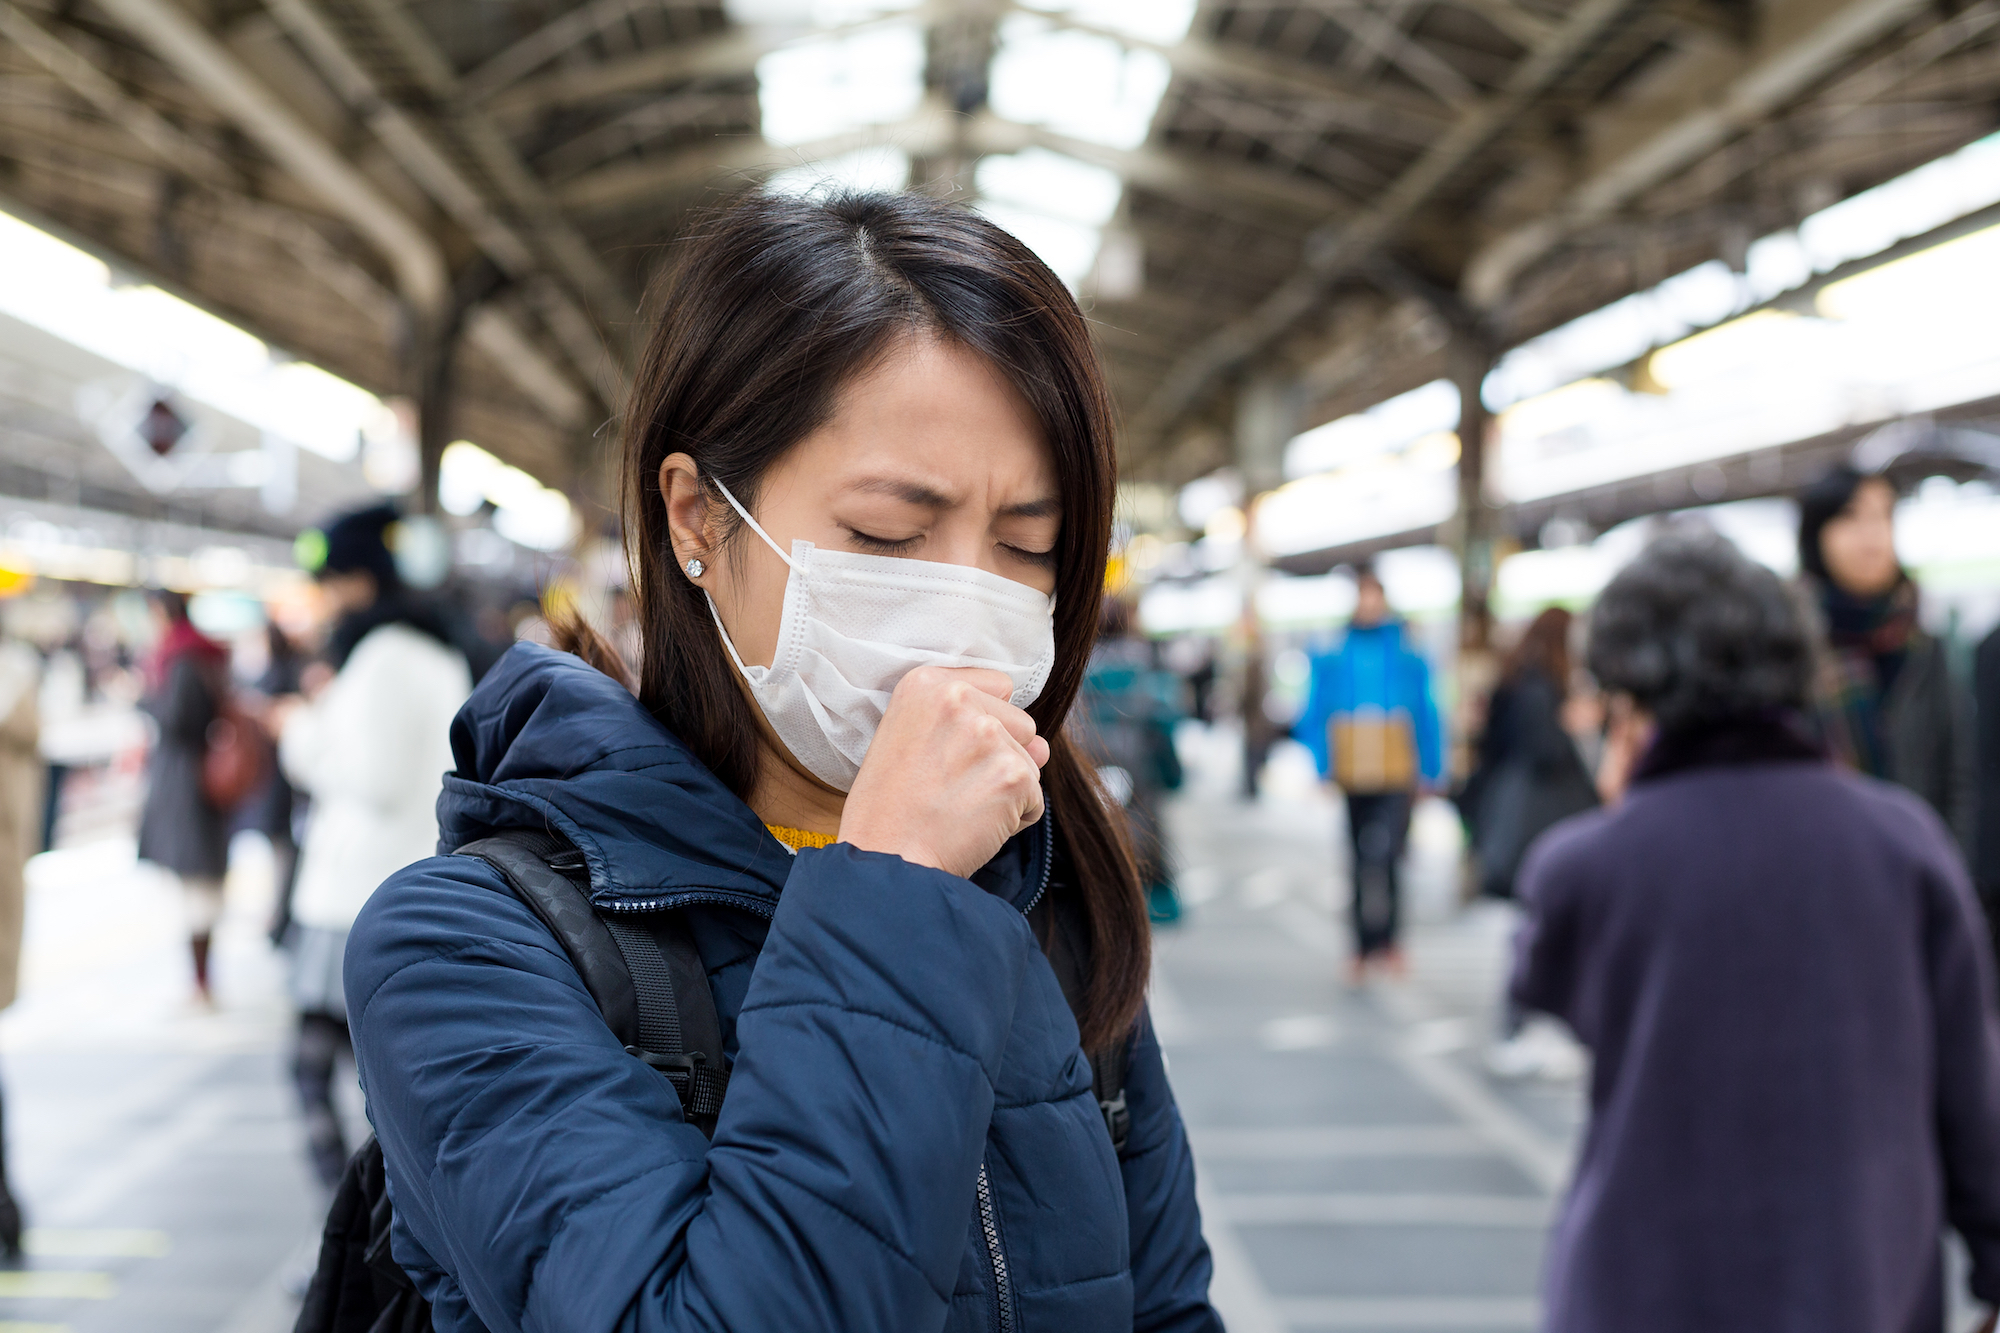surgical: (729, 524, 1065, 795)
